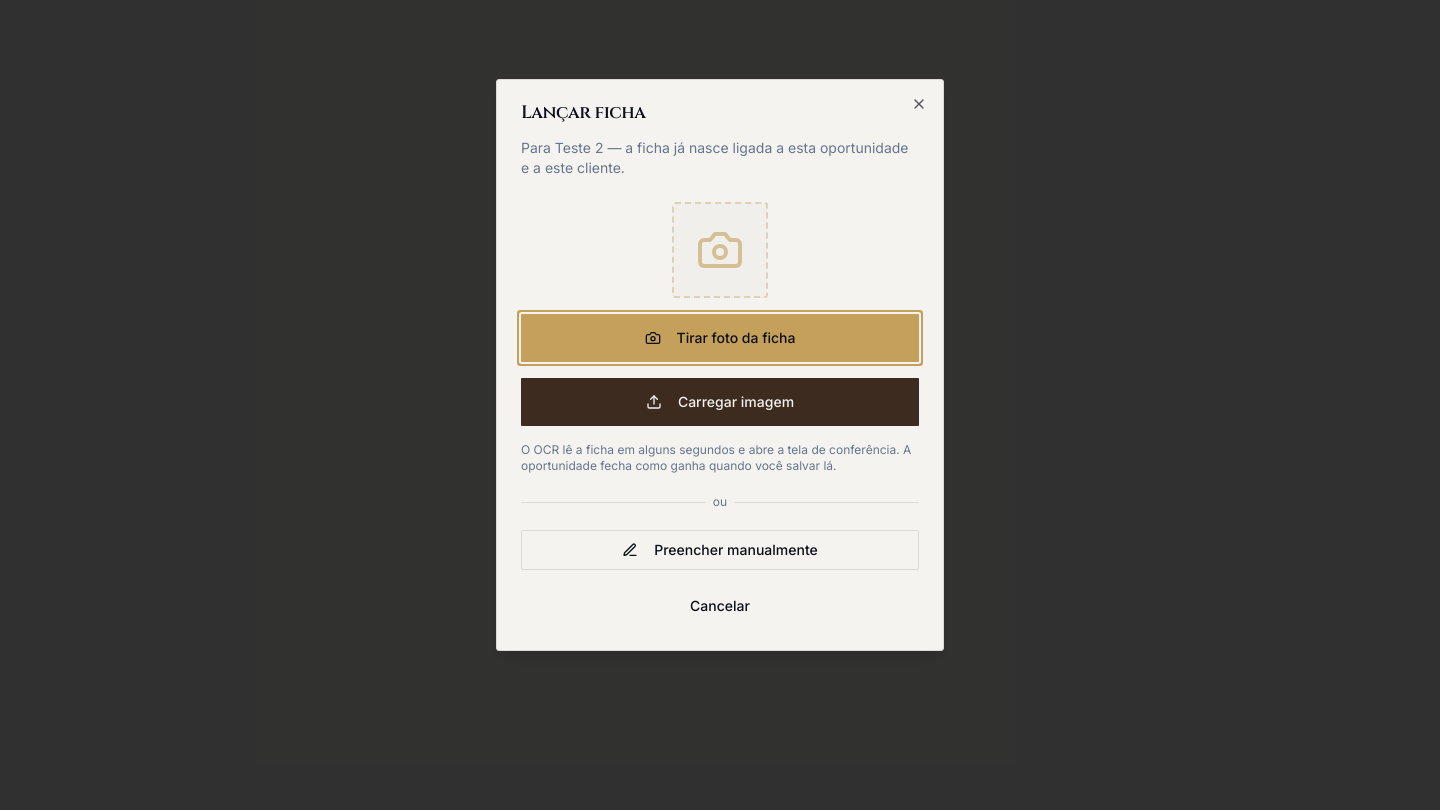
LancarFichaDialog › manual — o desvio › dá para voltar para a foto sem fechar o modal
The width and height of the screenshot is (1440, 810).
Click the button "Preencher manualmente": click(720, 550) [521,530,919,570]
(page scrolled)
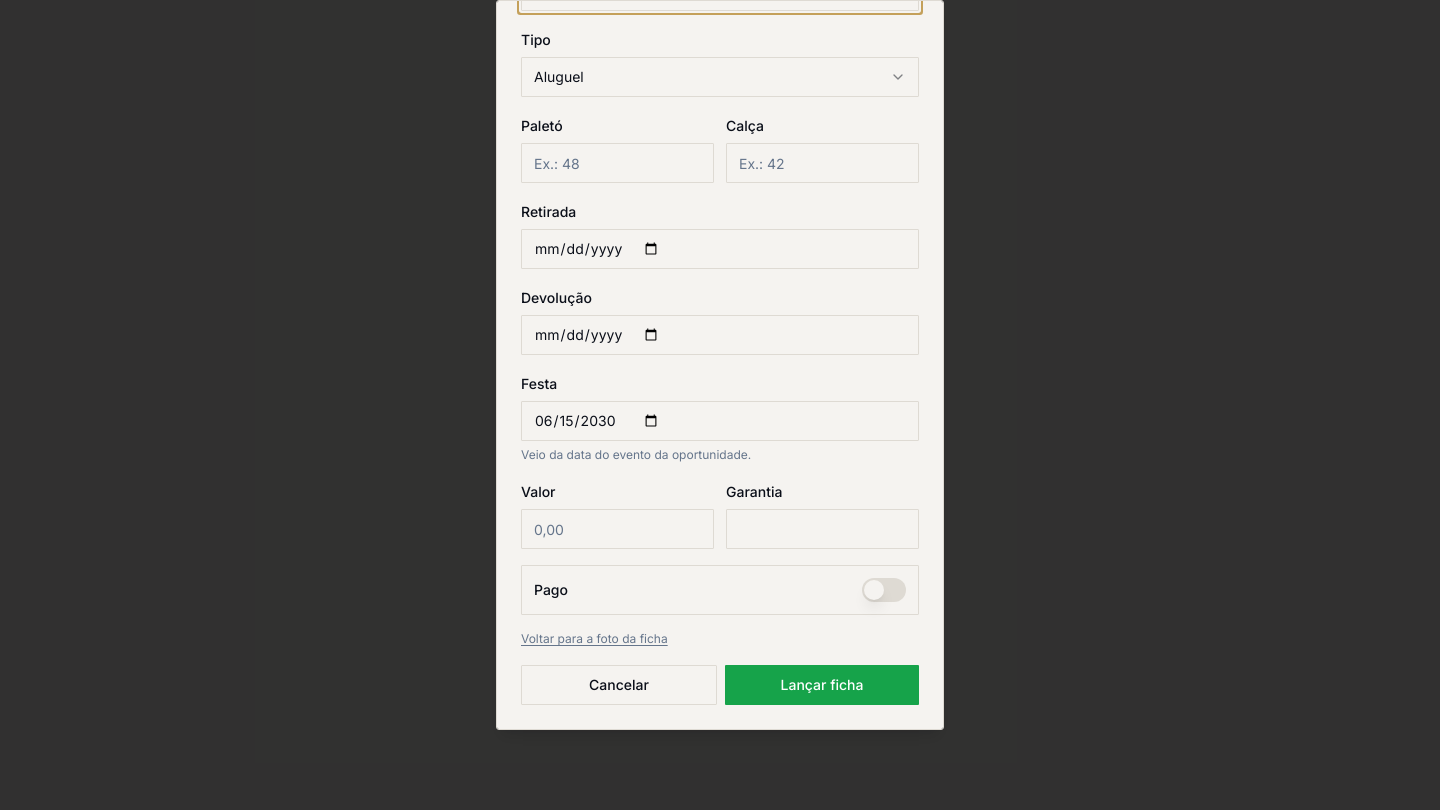
Click the button "Voltar para a foto da ficha": click(594, 639) [521,631,668,647]
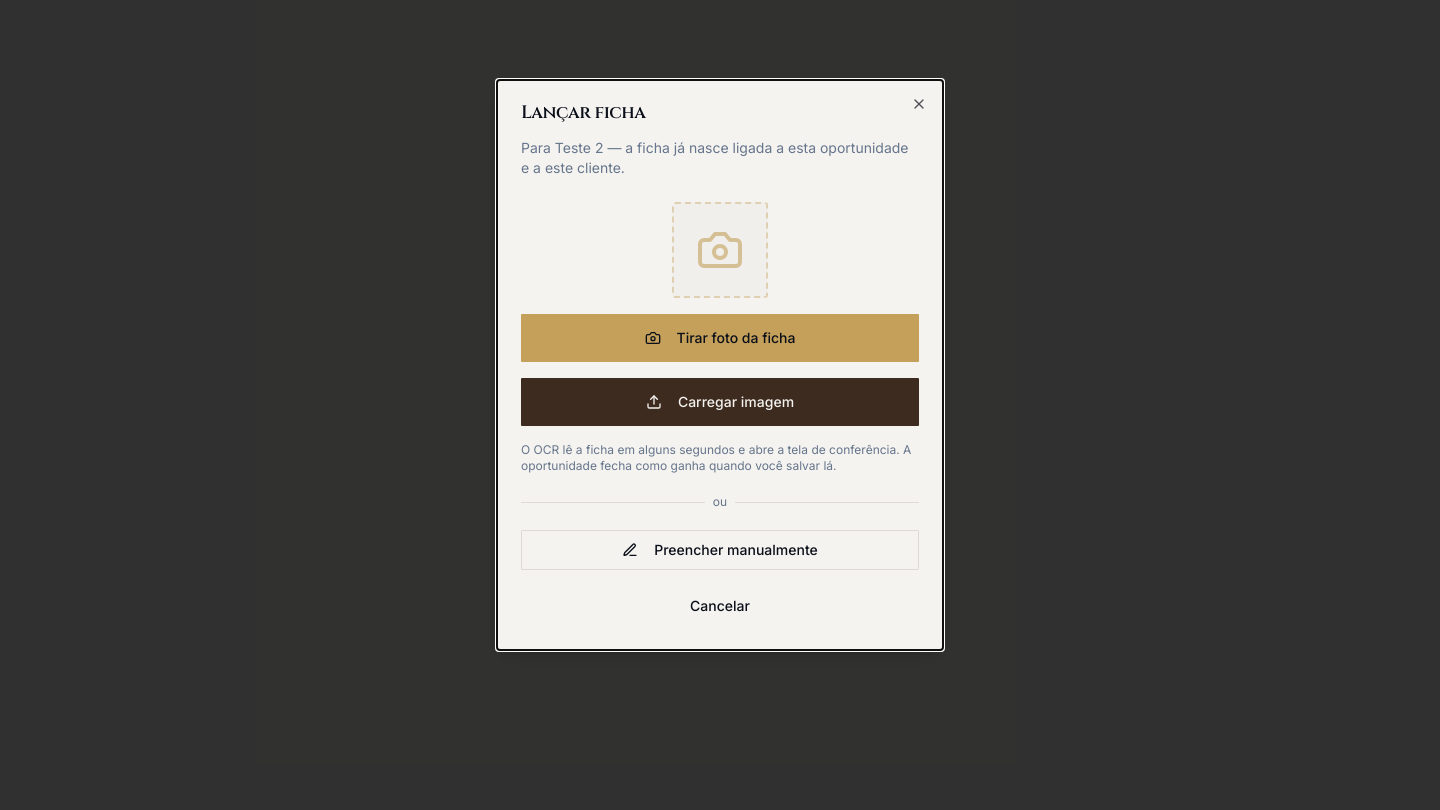
Expected: the button "Tirar foto da ficha" is shown, [521,314,919,362]
